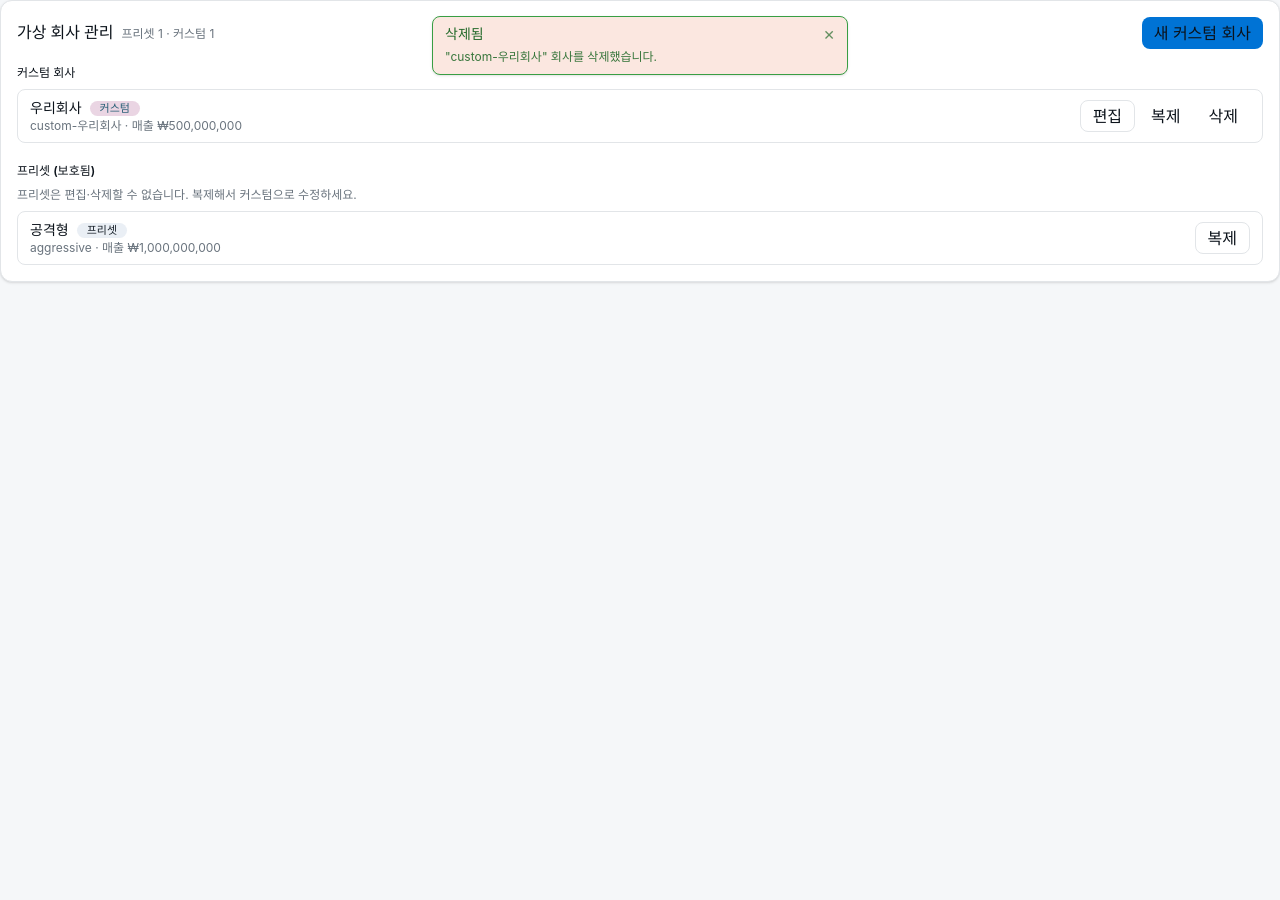
Test: CustomOperatorManager › fetches the full detail to prefill the edit form
Expected: the text "우리회사" is shown, left=30, top=98, right=82, bottom=118
What coordinates should you click on to do the following:
click the button "편집"
I would click on:
 (1107, 116)
Its box is left=1080, top=100, right=1135, bottom=132.
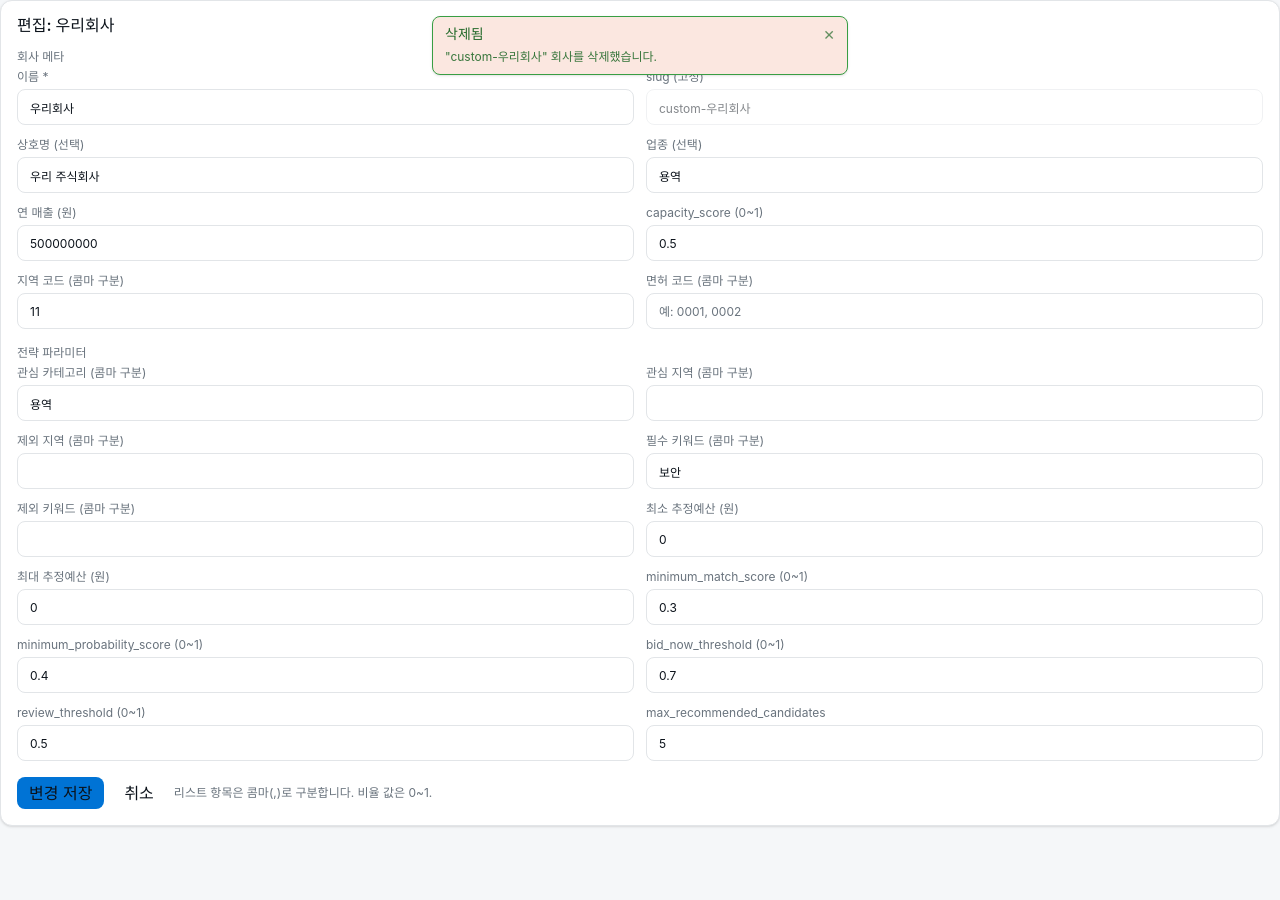
Now the element named "커스텀 회사 편집" is shown
